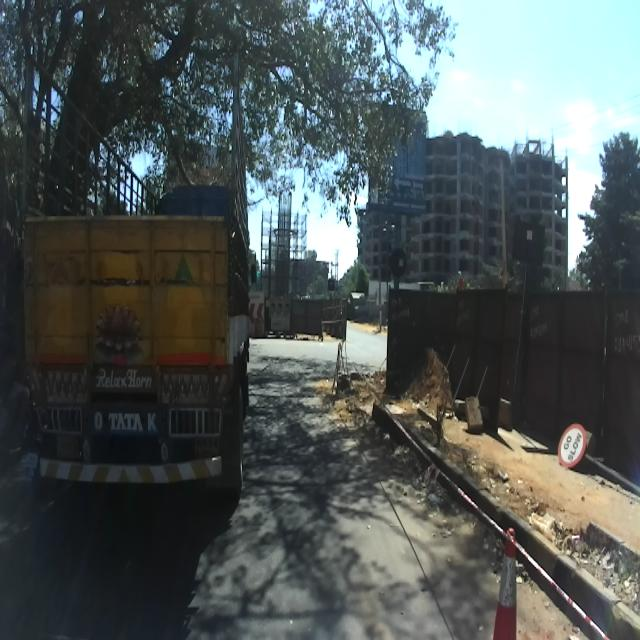truck ahead at: (20, 57, 258, 511)
